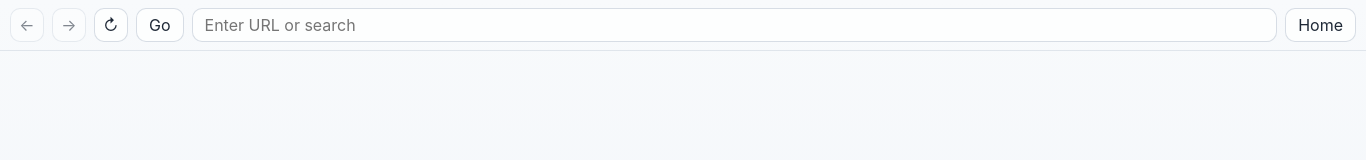
Scenario: BrowserPanel › renders a fallback alert when navigate rejects
In the field named "Browser address": [734, 25] box top-left (192, 8), bottom-right (1277, 42), type "https://bad.example.test"
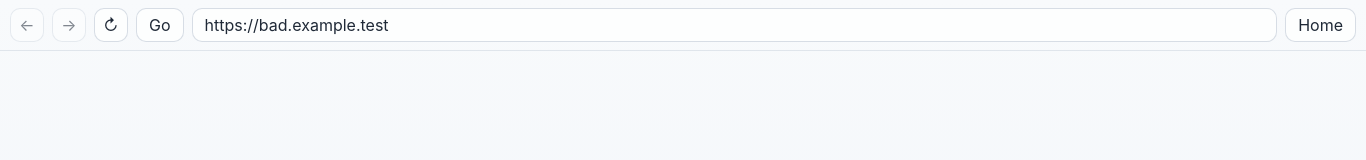
Submit the form named "Browser navigation", box top-left (0, 0), bottom-right (1365, 51)
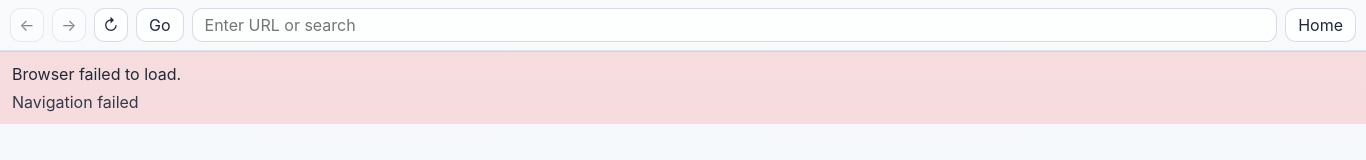
expect the message shows "Browser failed to load.": met, box top-left (12, 64), bottom-right (181, 84)
expect the message shows "Navigation failed": met, box top-left (12, 92), bottom-right (139, 112)
